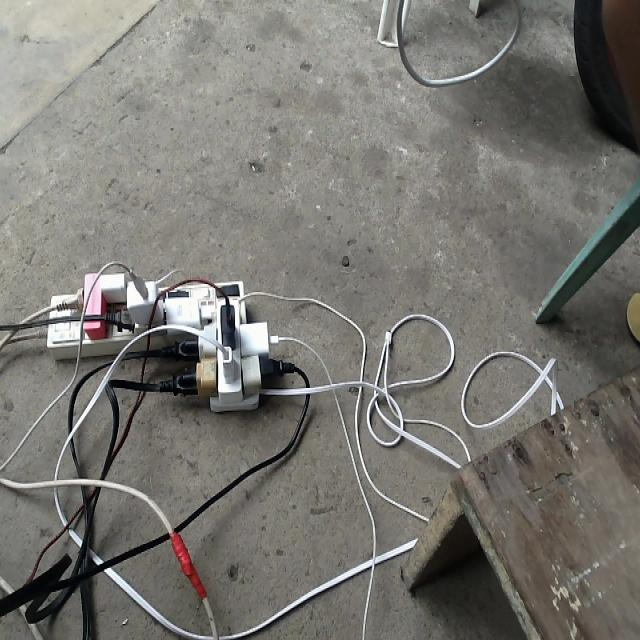-: (45, 260, 299, 412)
